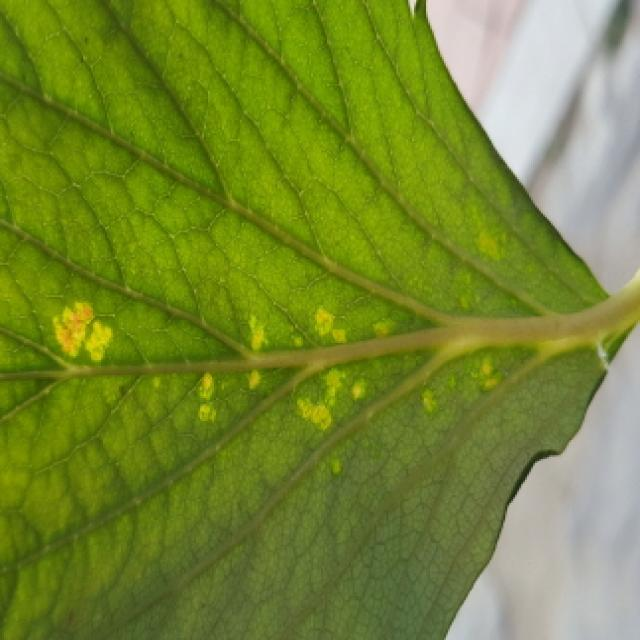Angular Leafspot: (0, 294, 517, 476)
